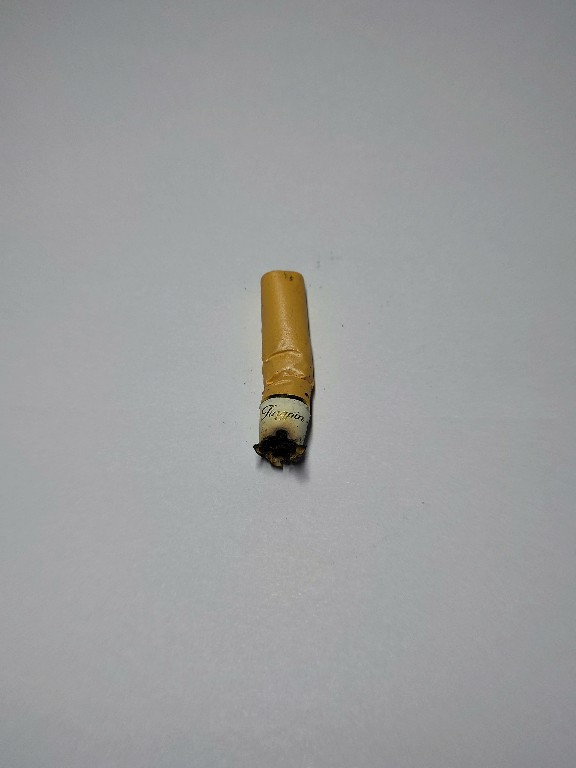cigarette: (250, 267, 324, 475)
